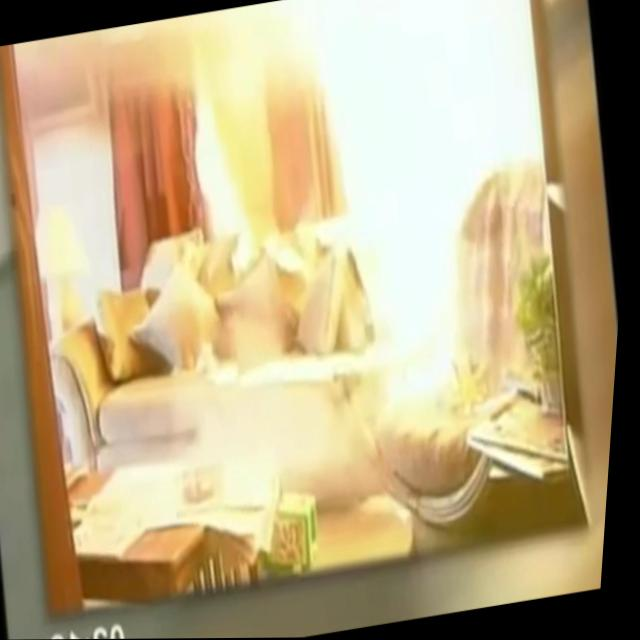fire: (279, 0, 588, 423)
